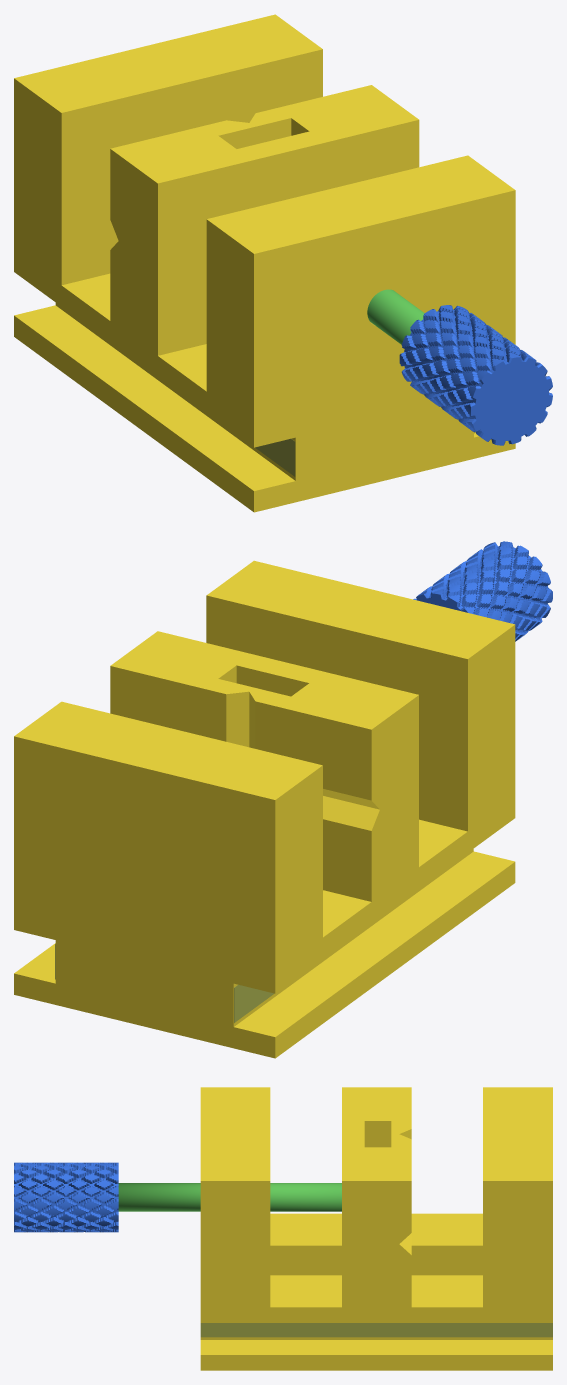
Rendered from openscad_toolmakersvise.glb.
3 renders of one model, top to bottom at view 1: azimuth 30°, elevation 25°; view 2: azimuth 150°, elevation 25°; view 3: azimuth 270°, elevation 25°, orthographic. The views are drawn at different scales.
Visible parts, largest first — view 1: object; view 2: object; view 3: object.
Part boxes in pixels (bbox=[...]): object: bbox=[14, 14, 552, 512]; object: bbox=[14, 541, 552, 1058]; object: bbox=[14, 1087, 552, 1370].
Size of the model in its own units: 63.5 by 64.5 by 155.
